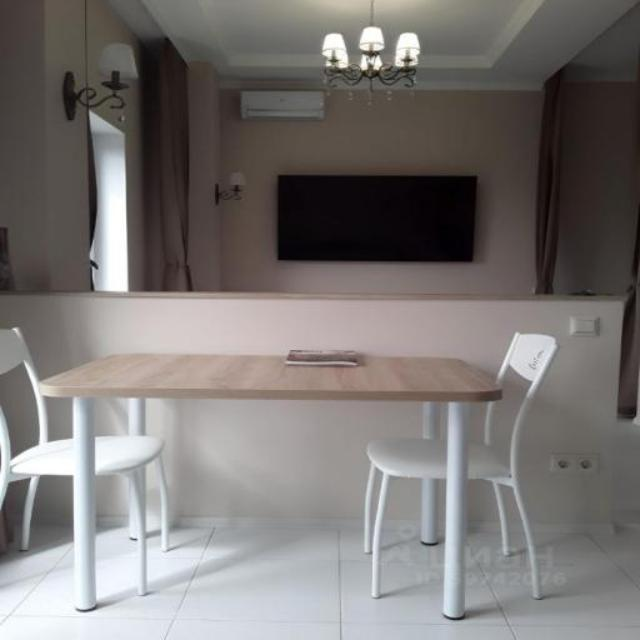Flat-Panel-TV: (275, 175, 477, 262)
